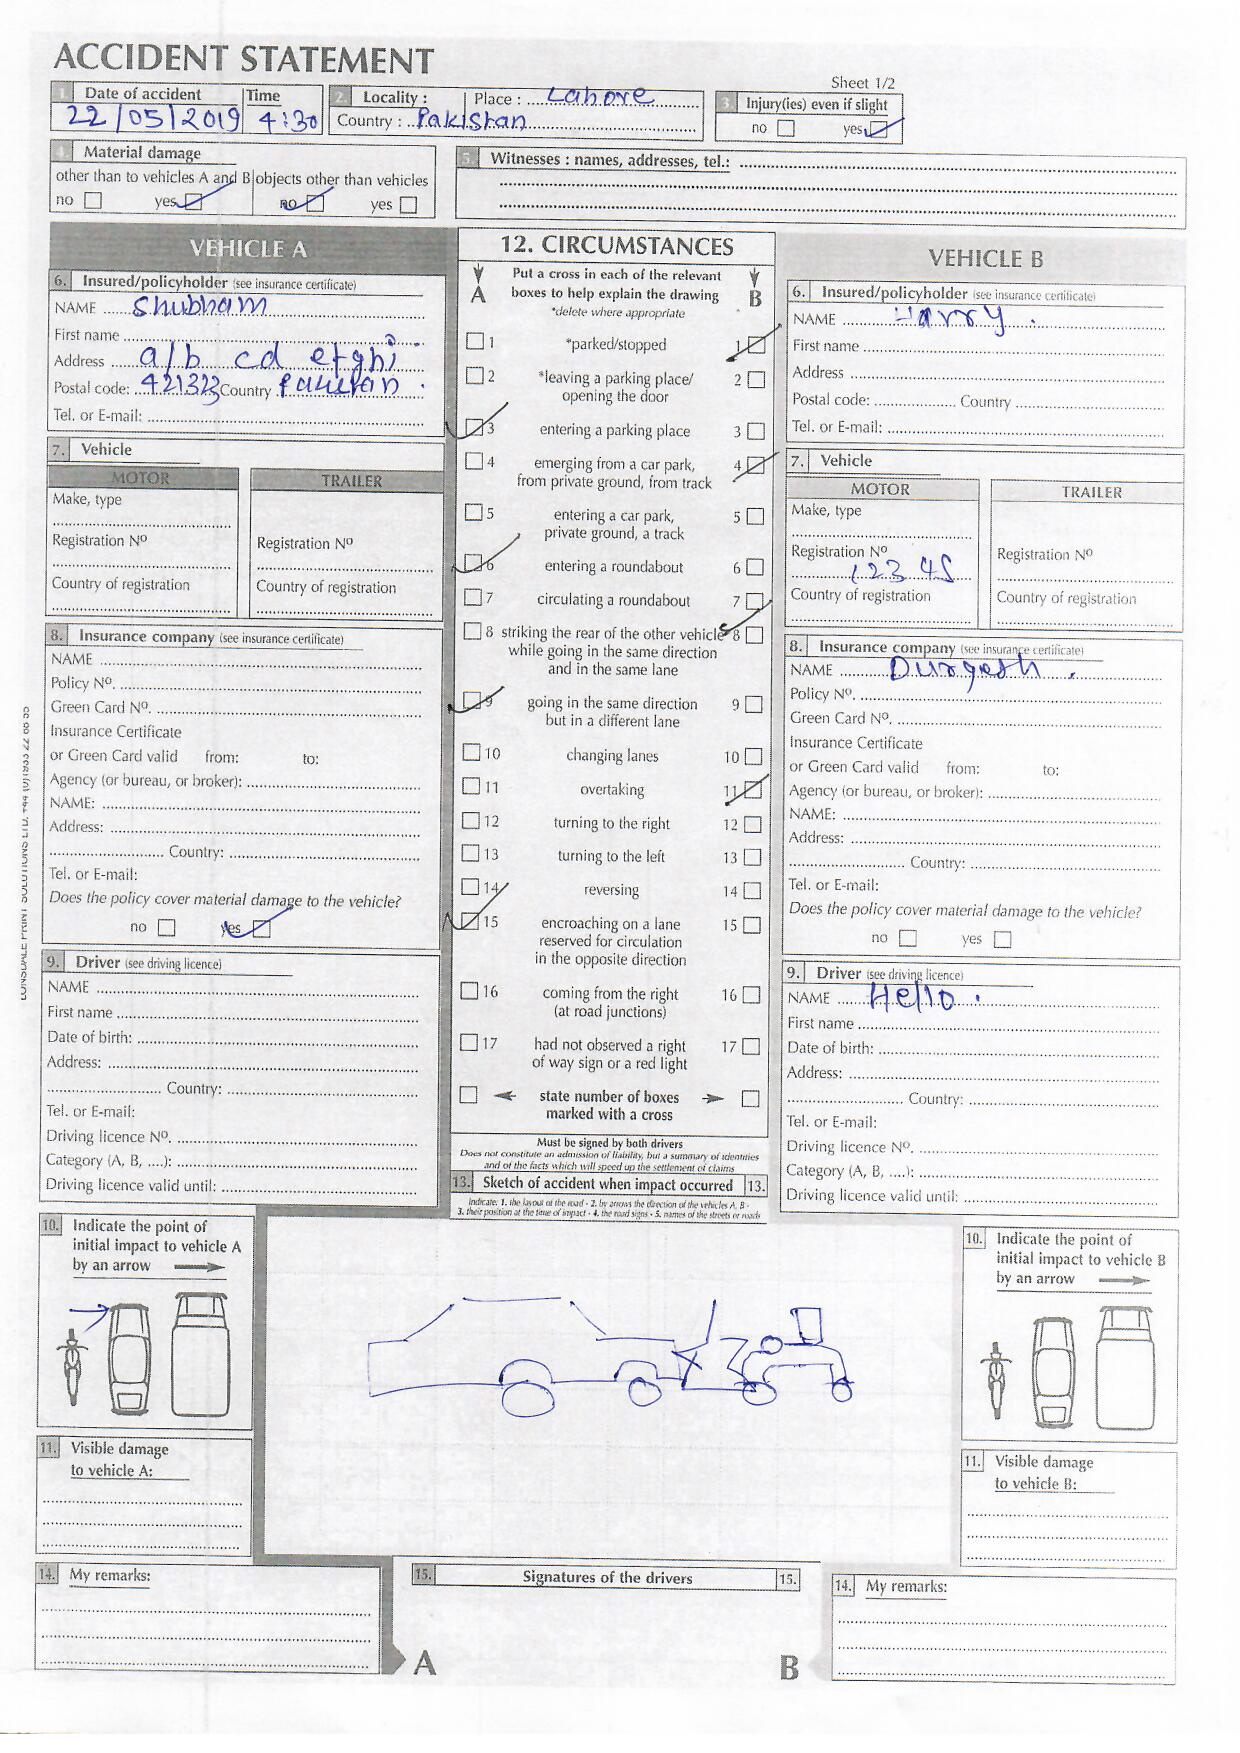a: (458, 549, 488, 579), (459, 415, 488, 444), (741, 330, 772, 357), (741, 589, 769, 617), (741, 451, 768, 479), (739, 776, 766, 804), (458, 689, 488, 713), (458, 909, 482, 936)
